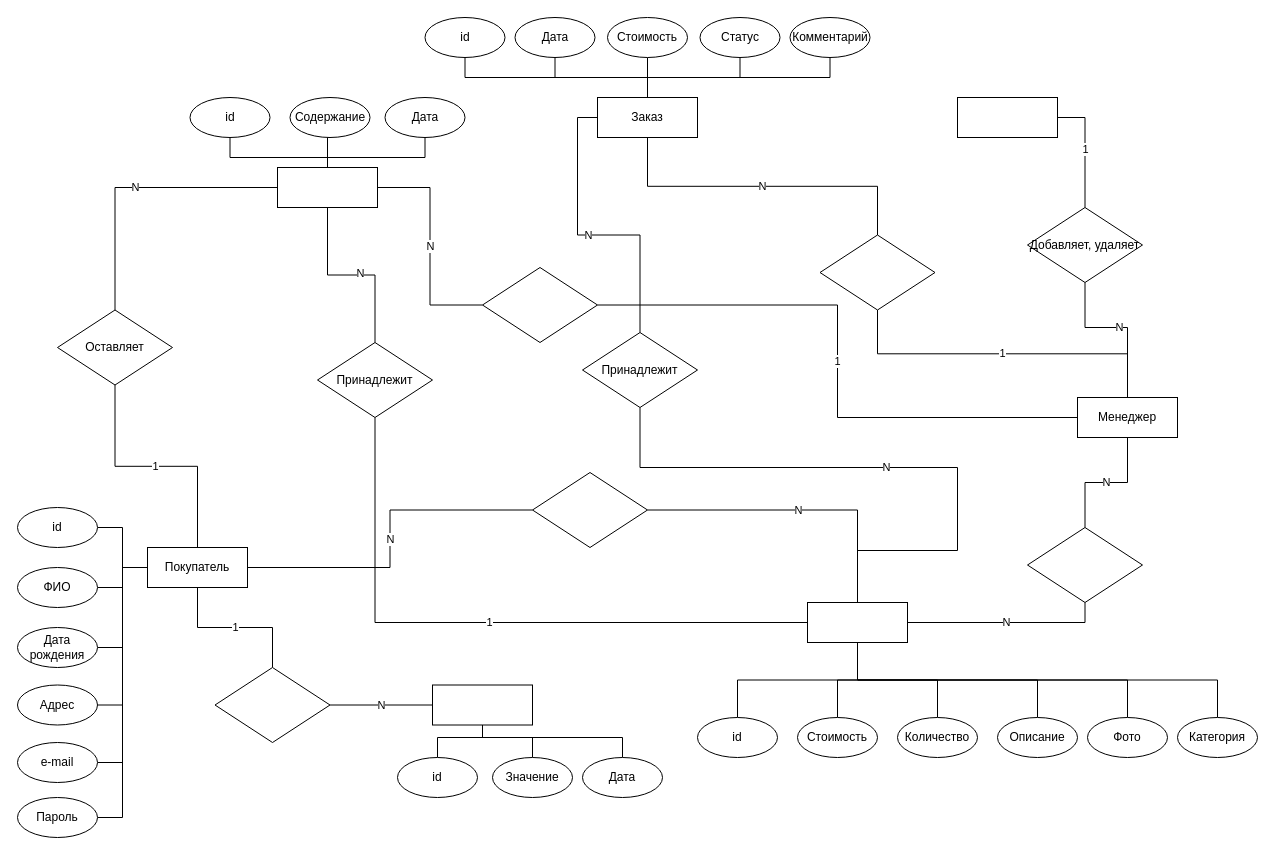
Some shapes in this 1275 by 855 pixel diagram are drawn without their labels. Here are the shapes that lost their labels. From the top down, the centre of each, then its label:
point (1007, 117): Администратор
point (327, 187): Отзыв
point (877, 272): Подтверждает/Отклоняет
point (540, 304): Проверяет
point (590, 510): Просматривает, покупает
point (1084, 564): Обновляет информацию
point (857, 622): Товар
point (272, 704): Ставит
point (482, 704): Оценка
